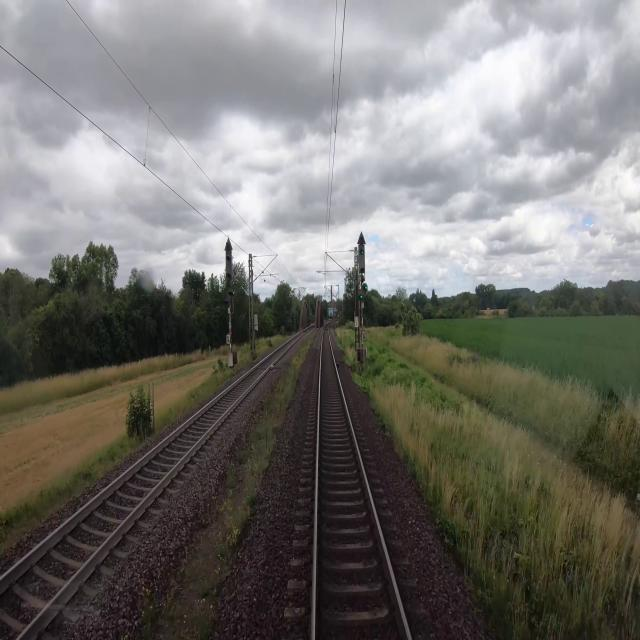Plant: (162, 329, 317, 639)
